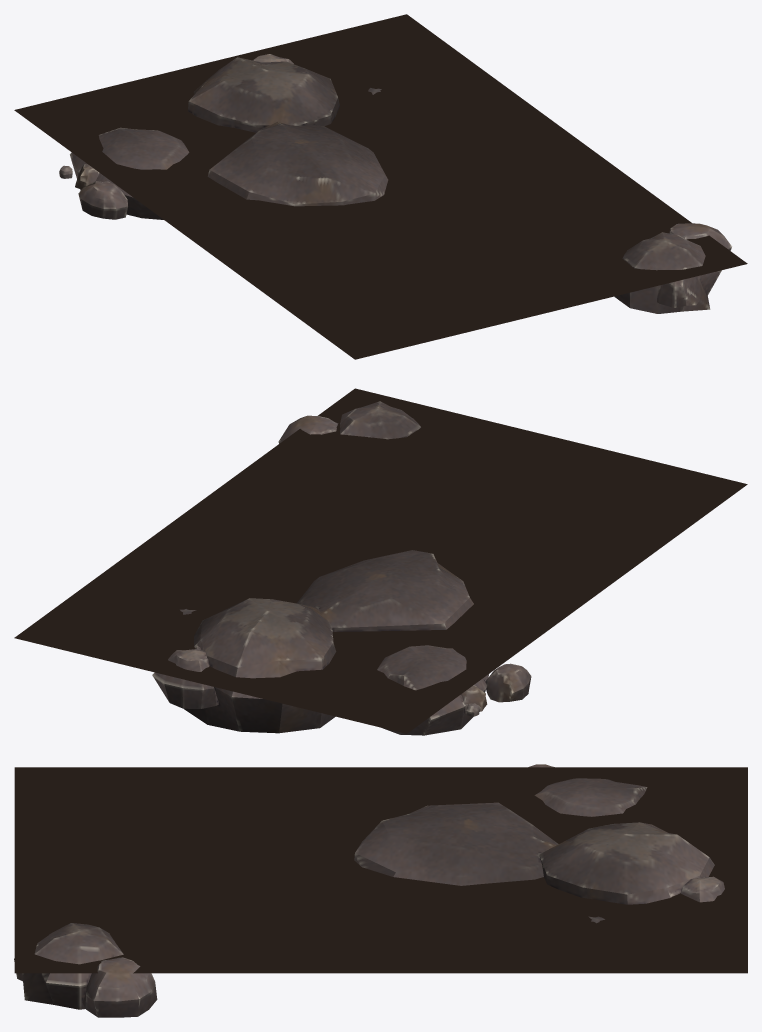
The picture shows the model from 3 angles, top to bottom: view 1: azimuth 30°, elevation 25°; view 2: azimuth 150°, elevation 25°; view 3: azimuth 270°, elevation 25°; orthographic projection. The views are drawn at different scales.
Visible parts, largest first — view 1: GroundShade, Stones; view 2: GroundShade, Stones; view 3: GroundShade, Stones.
Part boxes in pixels (x1,y1,x2,y2): GroundShade: (14, 14, 747, 359); Stones: (59, 54, 731, 313); GroundShade: (14, 388, 747, 733); Stones: (152, 401, 531, 735); GroundShade: (14, 767, 747, 973); Stones: (14, 764, 724, 1017).
Size of the model in its own units: 25.49 by 5.23 by 34.23.
Materials: 2 (2 with a texture image).
